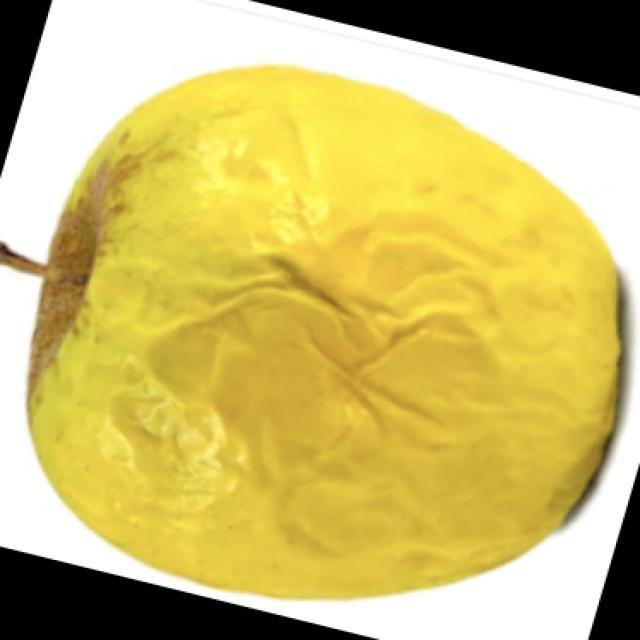Rotten: (70, 48, 633, 640)
